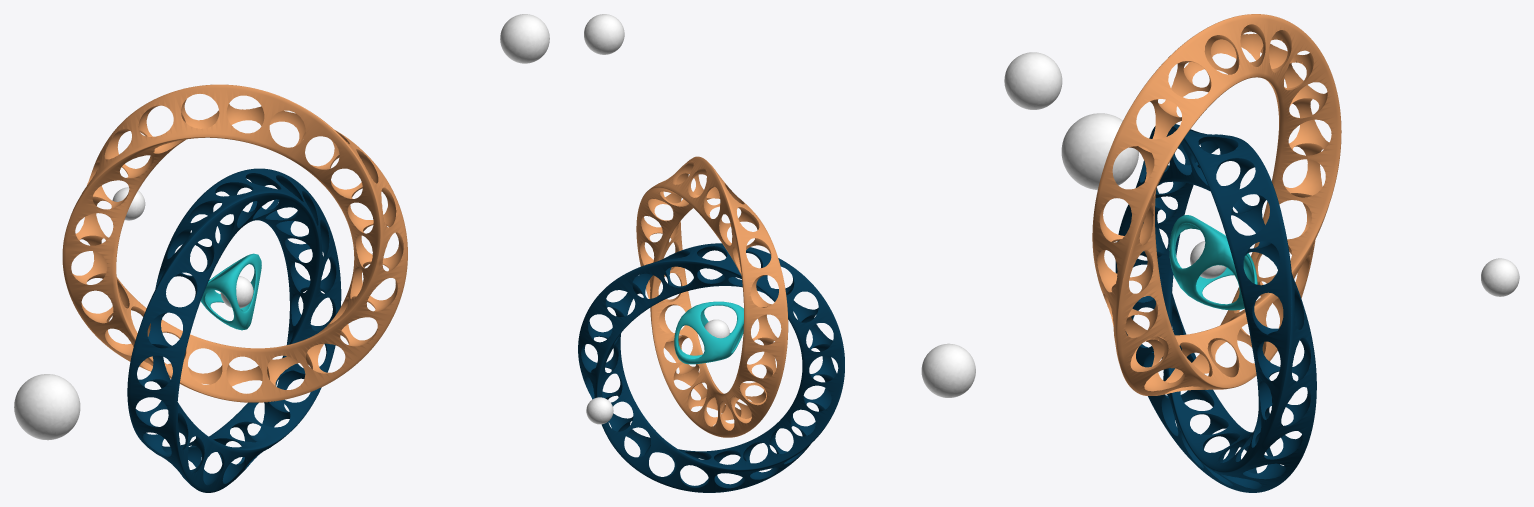
The picture shows the model from 3 angles, left to right: view 1: azimuth 30°, elevation 25°; view 2: azimuth 150°, elevation 25°; view 3: azimuth 270°, elevation 25°; orthographic projection. The views are drawn at different scales.
Parts seen in each view (by area): view 1: Mesh_0.001, Mesh_0, Sphere_blue, Cube__0, Sphere_pink; view 2: Mesh_0, Mesh_0.001, Sphere_blue, Cube__0, Sphere_pink, Sphere_green; view 3: Mesh_0.001, Mesh_0, Sphere_blue, Cube__0, Sphere_pink, Sphere_green.
Part boxes in pixels (bbox=[...]): Mesh_0.001: bbox=[62, 84, 407, 402]; Mesh_0: bbox=[127, 168, 341, 492]; Sphere_blue: bbox=[14, 374, 80, 440]; Cube__0: bbox=[201, 253, 261, 330]; Sphere_pink: bbox=[500, 14, 549, 63]; Mesh_0: bbox=[578, 243, 844, 492]; Mesh_0.001: bbox=[636, 156, 788, 437]; Sphere_blue: bbox=[921, 343, 975, 397]; Cube__0: bbox=[674, 301, 743, 364]; Sphere_pink: bbox=[584, 14, 624, 54]; Sphere_green: bbox=[586, 397, 613, 424]; Mesh_0.001: bbox=[1092, 14, 1341, 395]; Mesh_0: bbox=[1115, 124, 1316, 492]; Sphere_blue: bbox=[1061, 113, 1138, 189]; Cube__0: bbox=[1169, 215, 1257, 310]; Sphere_pink: bbox=[1004, 52, 1062, 109]; Sphere_green: bbox=[1481, 258, 1519, 296].
Size of the model in its own units: 69.04 by 62.31 by 53.09.
